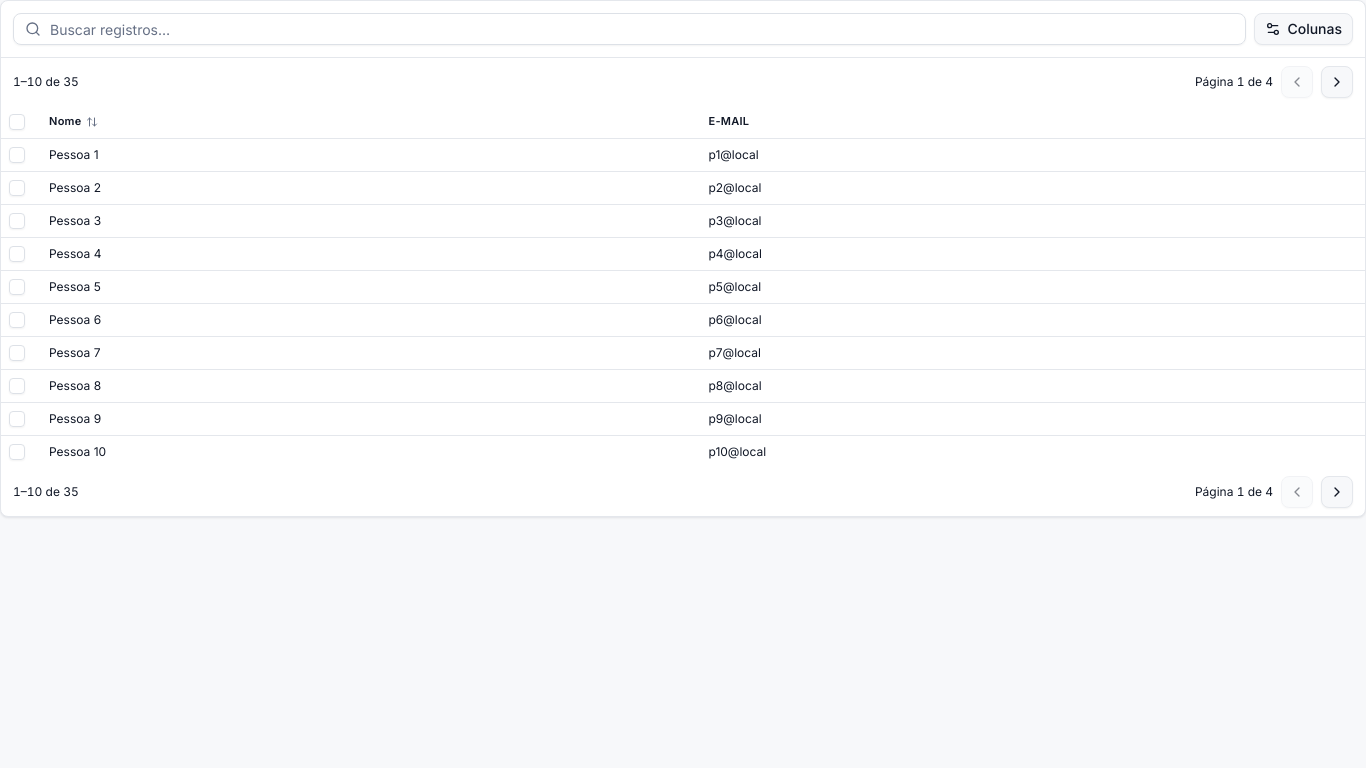
Test case: marca seleção parcial como indeterminada
The width and height of the screenshot is (1366, 768).
Click the checkbox named "Selecionar registro 1": [17, 155] box [9, 147, 25, 163]
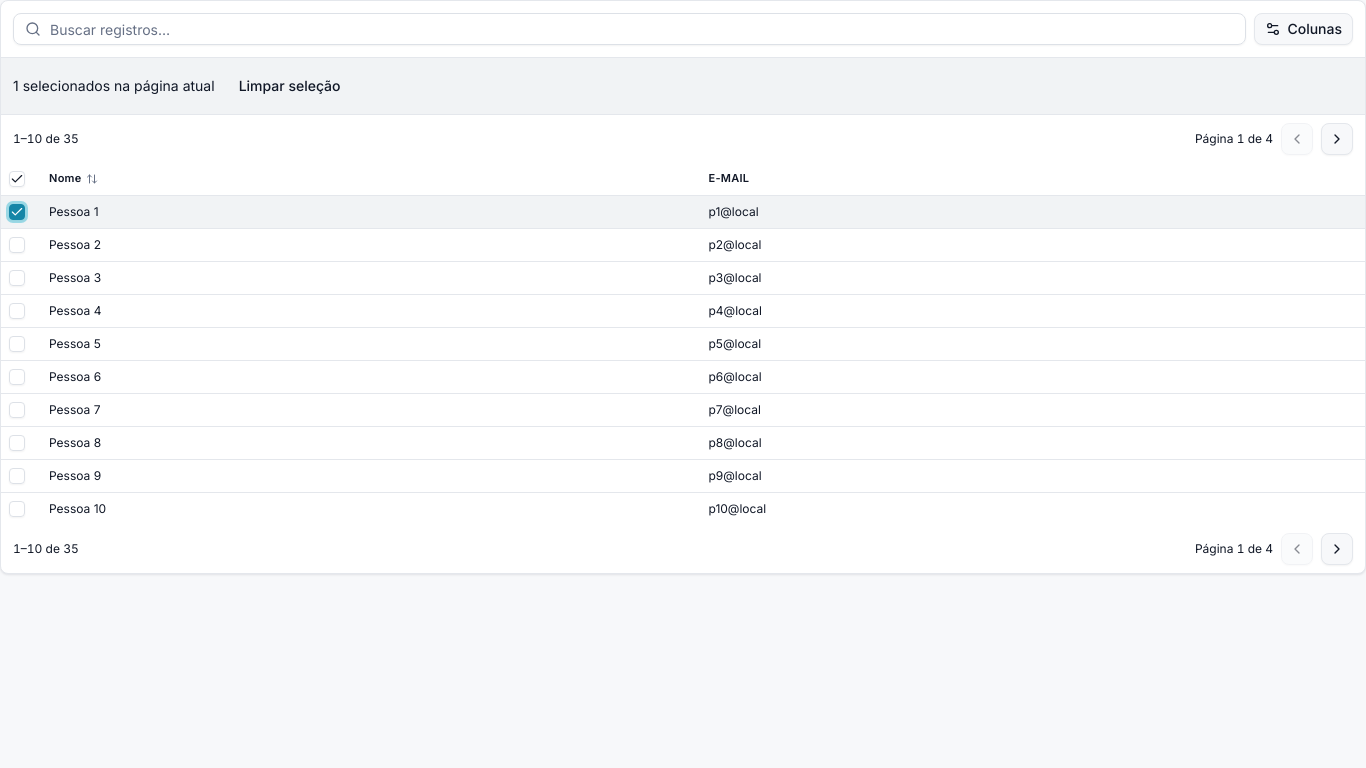
Expected: the text "1 selecionados na página atual" is shown, [13, 76, 215, 96]
